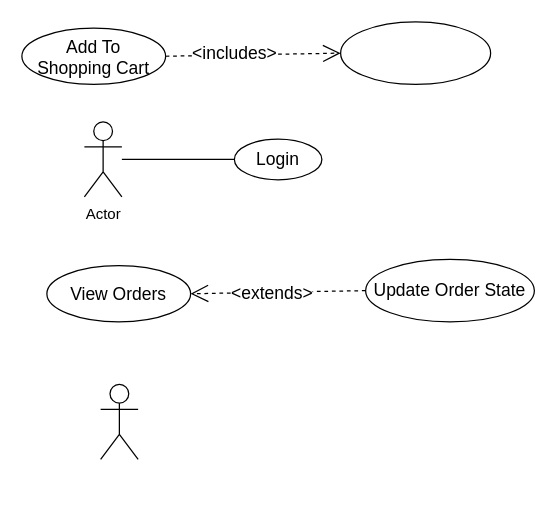
The diagram is 556 pixels wide and 508 high, and some of its shapes have lost their labels. Each missing label, with the centre of its shape:
"Admin" goes at point (118, 421).
"Browse Products" goes at point (415, 52).
